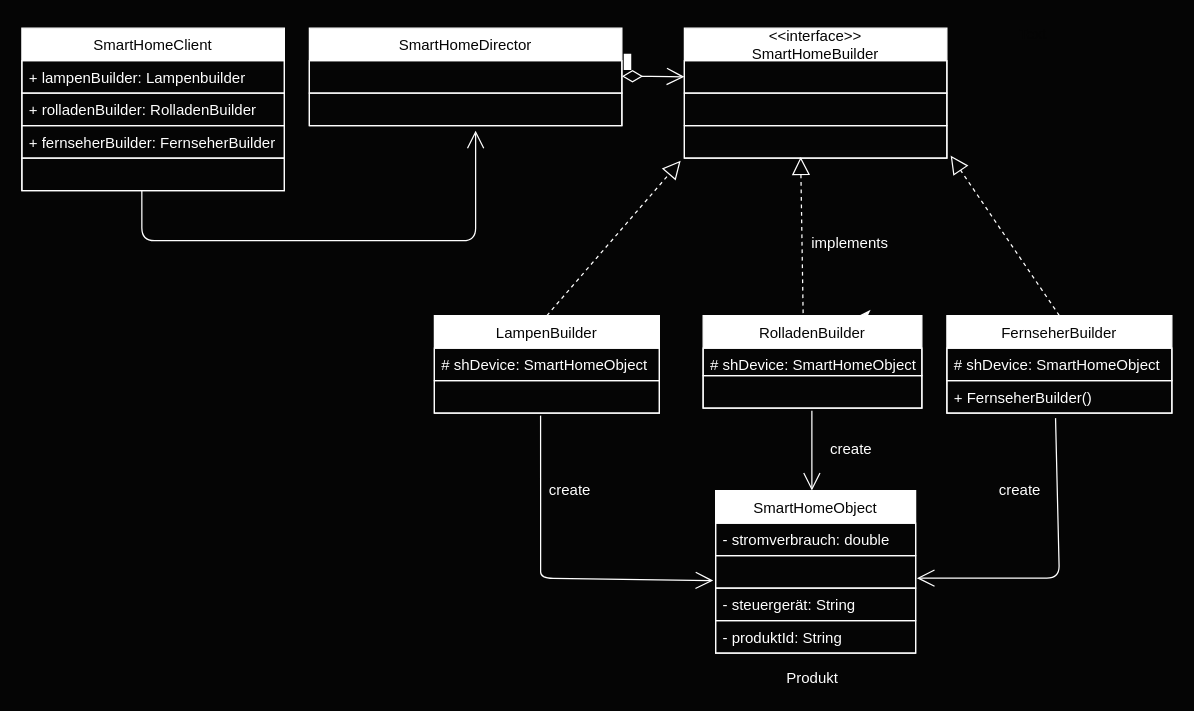
This 1194x711 diagram has some shape labels left out. Each missing label, with the centre of its shape:
+ bedienungEinstellen(): point (815, 141)
+ constructSmartHome(): point (465, 109)
+ LampenBuilder(): point (546, 396)
+ RolladenBuilder(): point (812, 391)
+ sensorTypBestimmen(): point (815, 109)
+ sHDirector: SmartHomeDirector: point (152, 174)
+ stromverbrauchBerechnen(): point (815, 76)
- sensorTyp: String: point (815, 571)
- SmartHomeBuilder: SmartHomeBuilder: point (465, 76)
